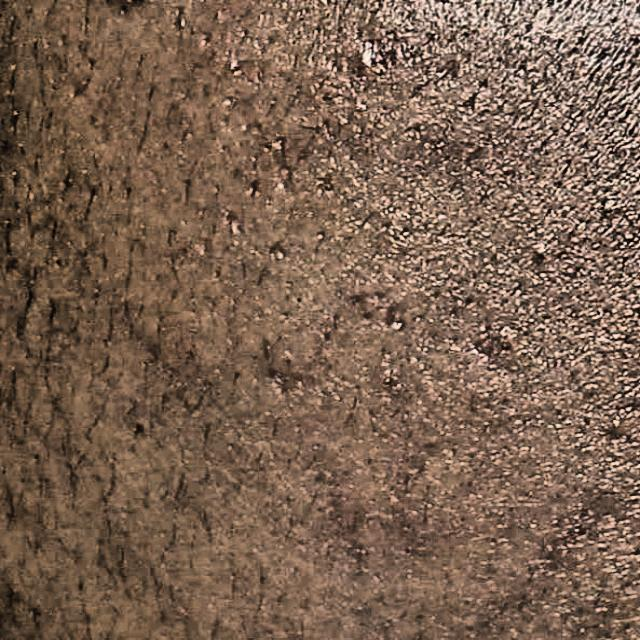whiteheads: (352, 44, 380, 80), (603, 414, 630, 437), (263, 175, 290, 192), (217, 91, 238, 112), (532, 244, 552, 263), (601, 199, 618, 218)
